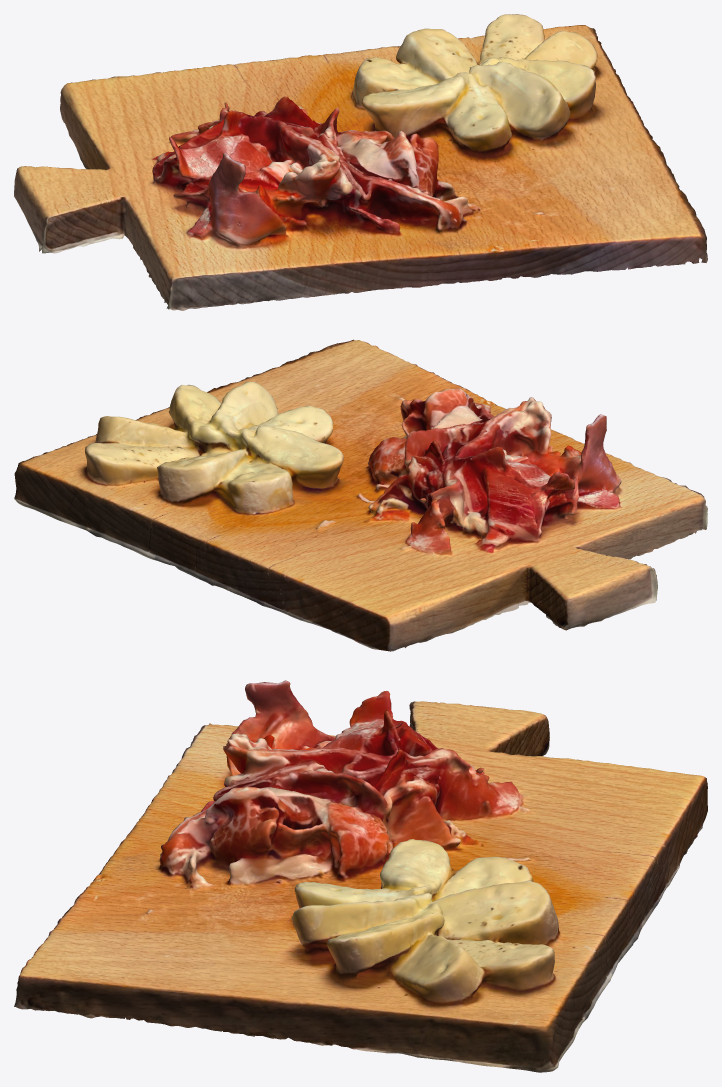
File: prsut-sir.glb
The picture shows the model from 3 angles, top to bottom: view 1: azimuth 30°, elevation 25°; view 2: azimuth 150°, elevation 25°; view 3: azimuth 270°, elevation 25°; orthographic projection. The views are drawn at different scales.
Visible parts, largest first — view 1: prsut-sir; view 2: prsut-sir; view 3: prsut-sir.
Part boxes in pixels (<box>): prsut-sir: <box>14,14,707,310</box>; prsut-sir: <box>14,339,707,651</box>; prsut-sir: <box>14,680,707,1072</box>.
Size of the model in its own units: 0.45 by 0.0788 by 0.3912.
Materials: 1 (1 with a texture image).
